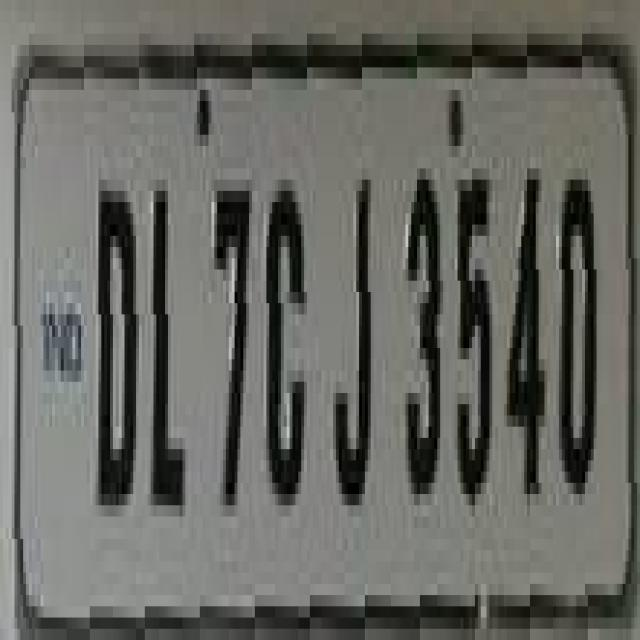plate: (14, 33, 639, 640)
